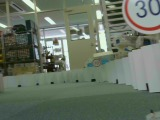speed_30: (120, 1, 160, 37)
